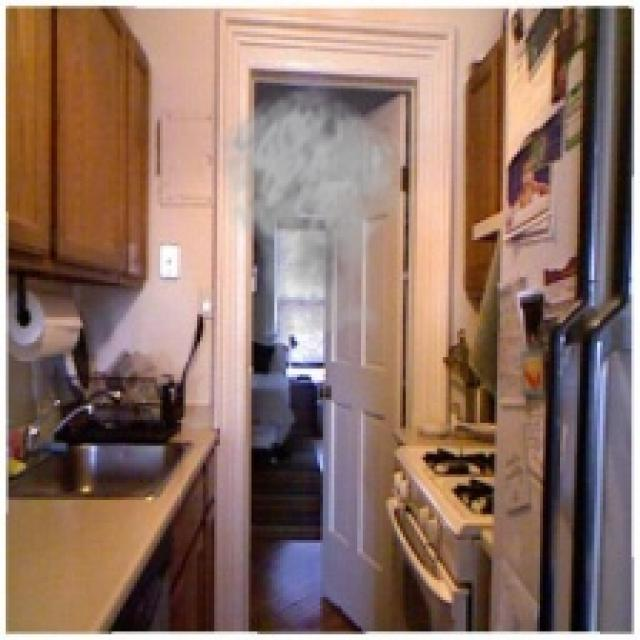smoke: (212, 83, 417, 357)
